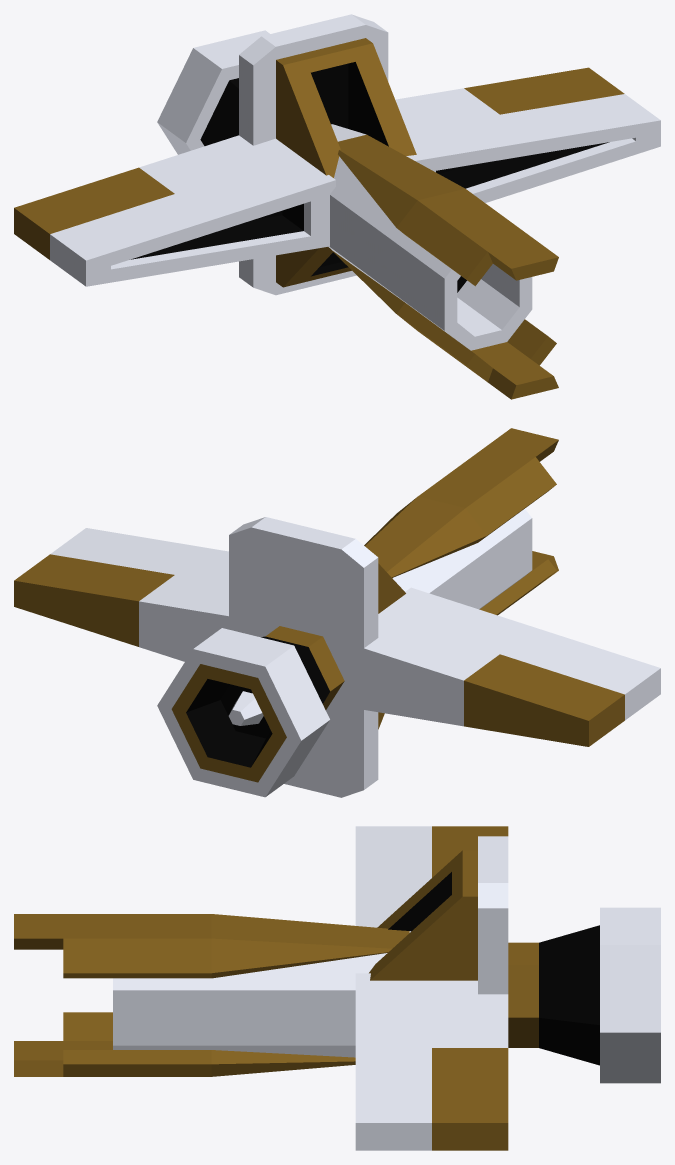
Rendered from AlienCraft.obj.
3 views of the same model, one above another, from view 1: azimuth 30°, elevation 25°; view 2: azimuth 150°, elevation 25°; view 3: azimuth 270°, elevation 25° (orthographic). The views are drawn at different scales.
Visible parts, largest first — view 1: mergedBlocks; view 2: mergedBlocks; view 3: mergedBlocks.
Boxes of the visible parts, bbox=[...] form: mergedBlocks: bbox=[14, 14, 660, 399]; mergedBlocks: bbox=[14, 428, 660, 797]; mergedBlocks: bbox=[14, 826, 660, 1150].
Size of the model in its own units: 0.046 by 0.019 by 0.0424.
